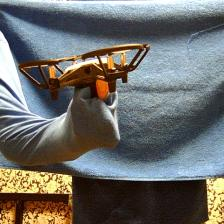drone: (18, 41, 151, 94)
